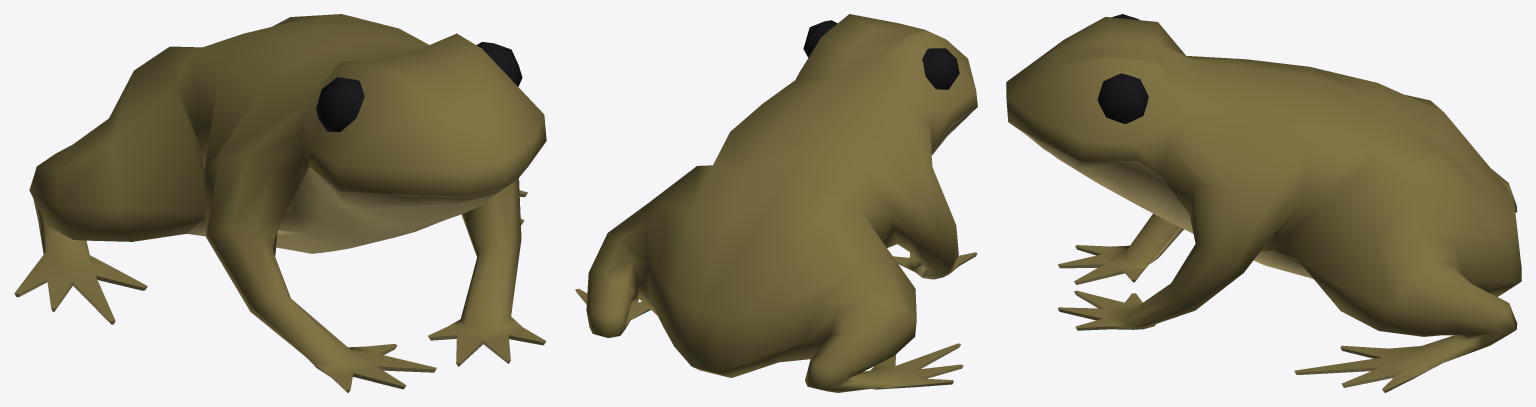
The model's file is Frog_2.gltf.
The picture shows the model from 3 angles, left to right: view 1: azimuth 30°, elevation 25°; view 2: azimuth 150°, elevation 25°; view 3: azimuth 270°, elevation 25°; orthographic projection. The views are drawn at different scales.
Visible parts, largest first — view 1: Frog_2; view 2: Frog_2; view 3: Frog_2.
Boxes of the visible parts, x1,y1,x2,y2 form: Frog_2: (14, 14, 546, 392); Frog_2: (575, 14, 977, 392); Frog_2: (1006, 14, 1521, 392).
Bounding box in the file's own units: 22.65 × 12.78 × 23.74.
1 material, 1 textured.
